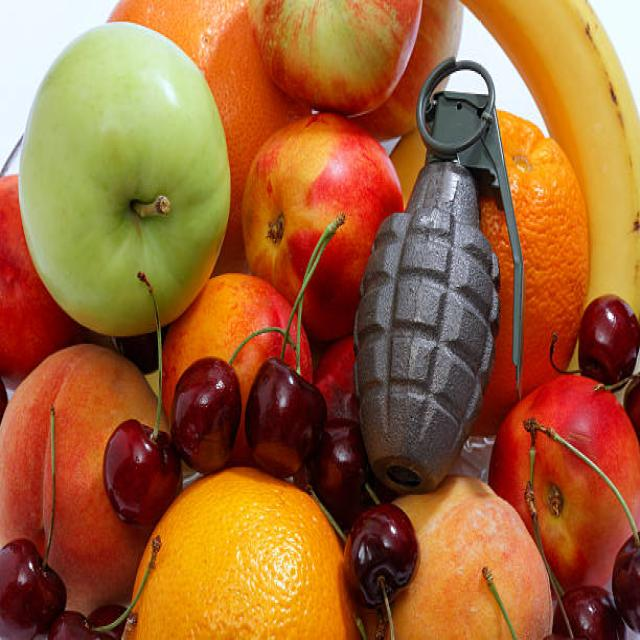grenade: (348, 58, 532, 498)
